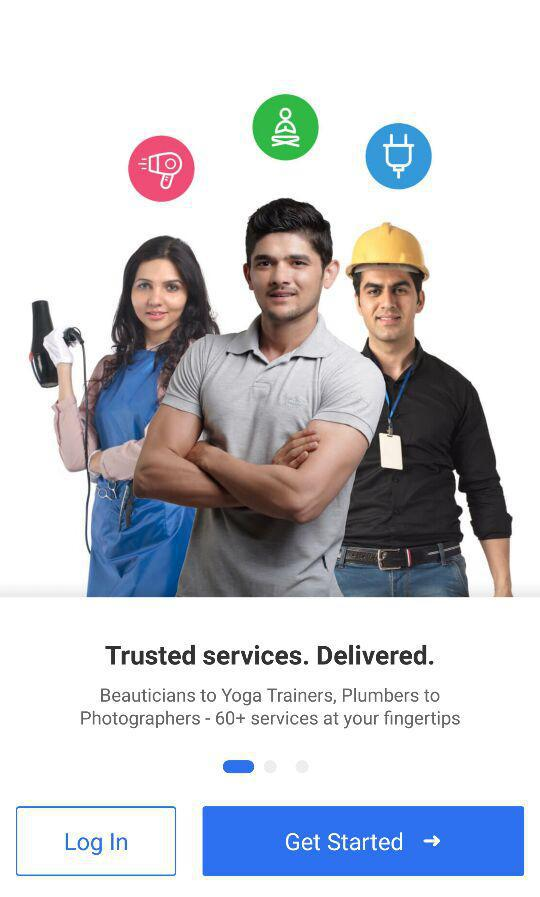Image: (29, 94, 514, 598)
PageIndicator: (223, 759, 311, 774)
Text: (81, 687, 461, 729), (105, 644, 434, 666)
TextButton: (202, 806, 524, 876), (16, 806, 177, 876)
